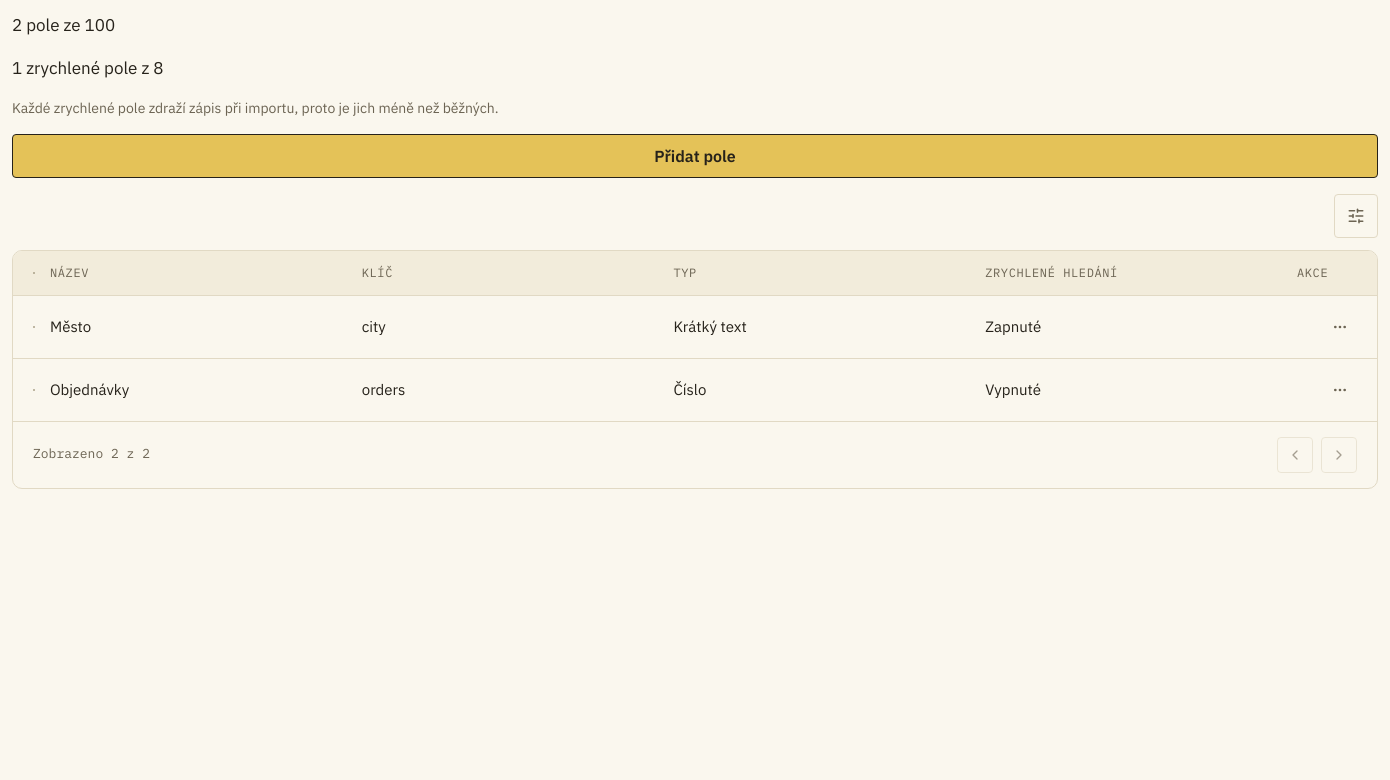
Scenario: hromadná archivace polí › výběr vede k akci, ne jen k počtu
Click the 1st checkbox named "Název" at (34, 327), box [33, 326, 35, 328]
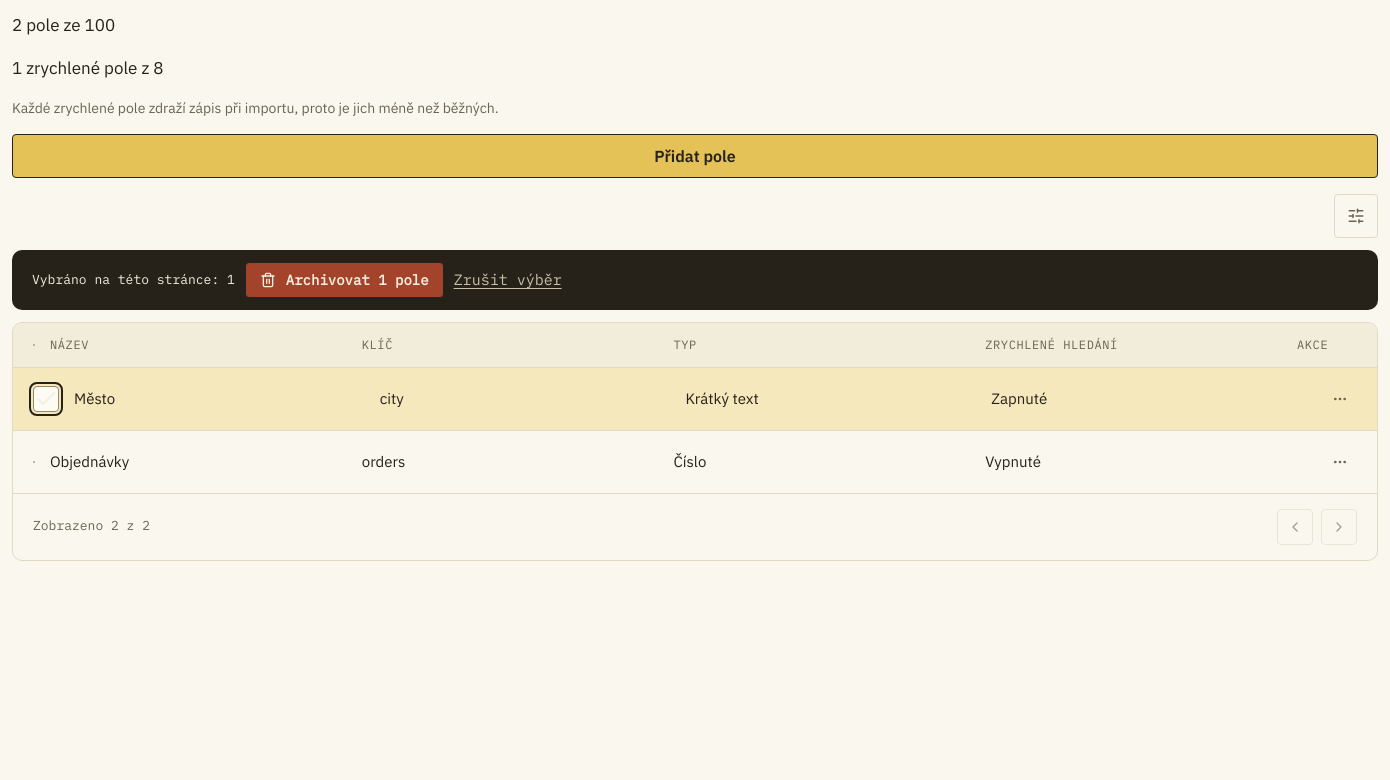
Result: the element with test id "selection-bar" is shown at [12, 250, 1378, 310]
Result: the button with test id "fields-bulk-delete" reads "Archivovat 1 pole" at [245, 262, 444, 298]
